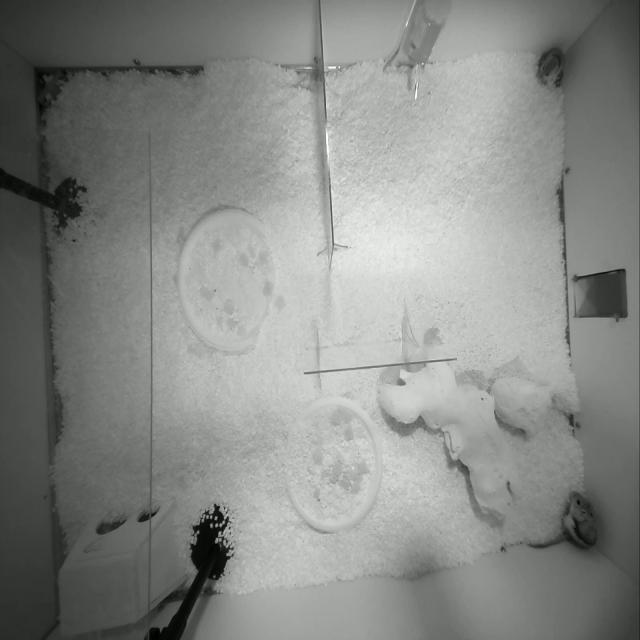adult_front: (529, 491, 597, 548)
pup_h_stripe: (536, 47, 564, 87)
